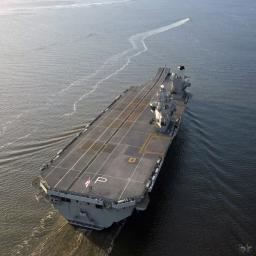Portanaves: (31, 62, 197, 241)
